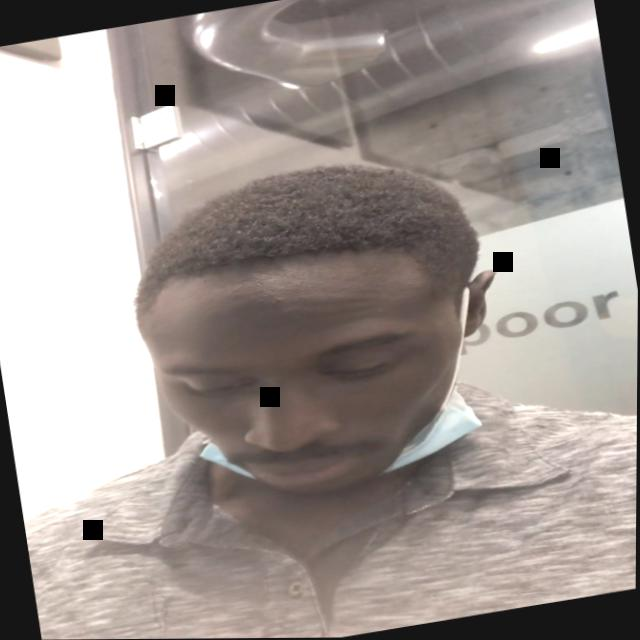NO-Mask: (140, 236, 511, 516)
